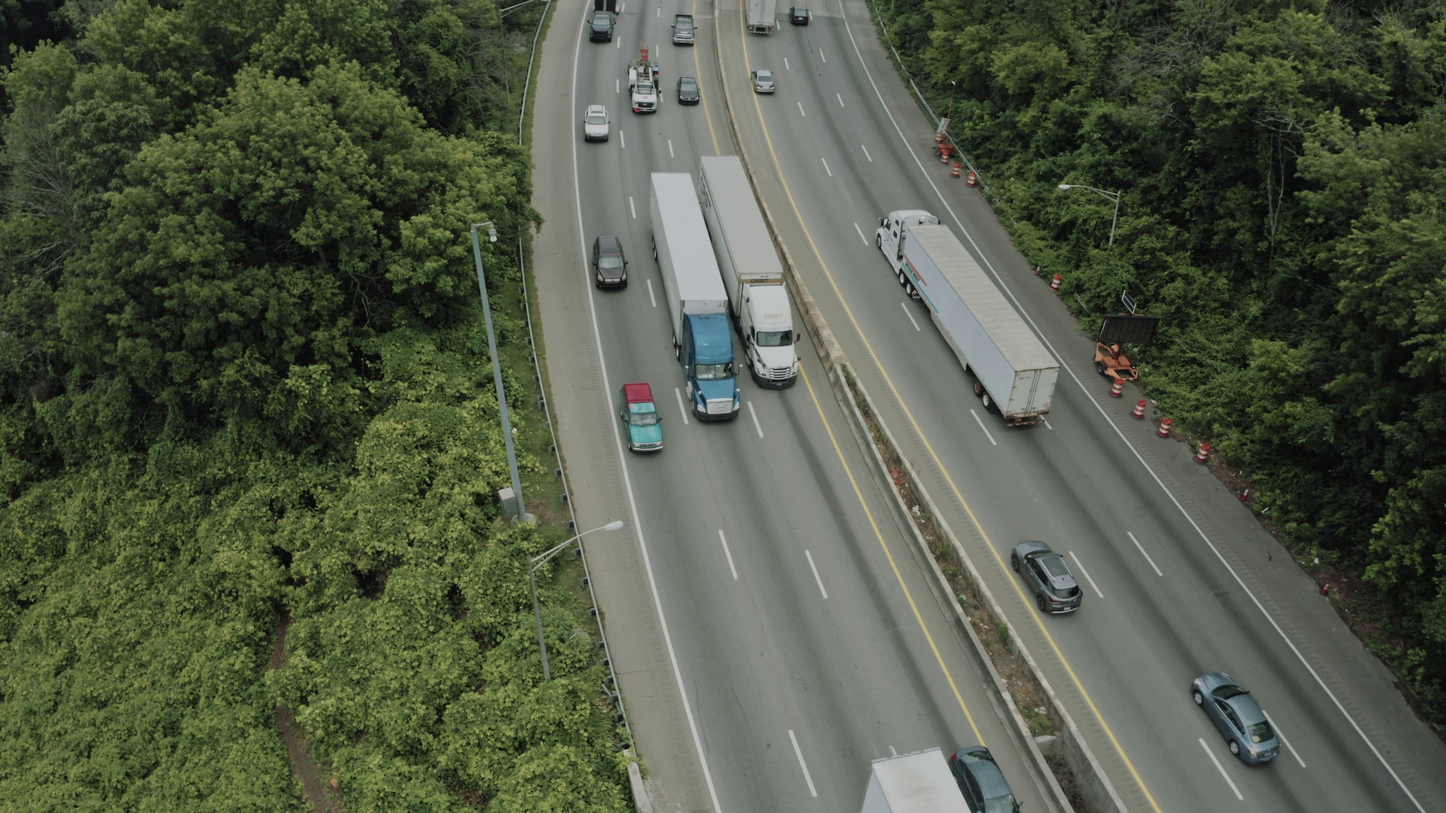Vehicle: (676, 306, 742, 431), (1205, 672, 1281, 766), (742, 282, 801, 390), (875, 205, 943, 291), (1010, 540, 1083, 615), (948, 746, 1023, 813), (619, 385, 664, 453), (592, 235, 627, 289), (628, 60, 662, 114), (628, 60, 661, 114), (583, 105, 610, 142), (587, 11, 617, 43), (670, 14, 697, 46), (677, 75, 700, 105), (750, 69, 775, 94), (1192, 674, 1205, 711), (789, 6, 813, 25), (1319, 581, 1330, 597), (772, 385, 794, 390)
